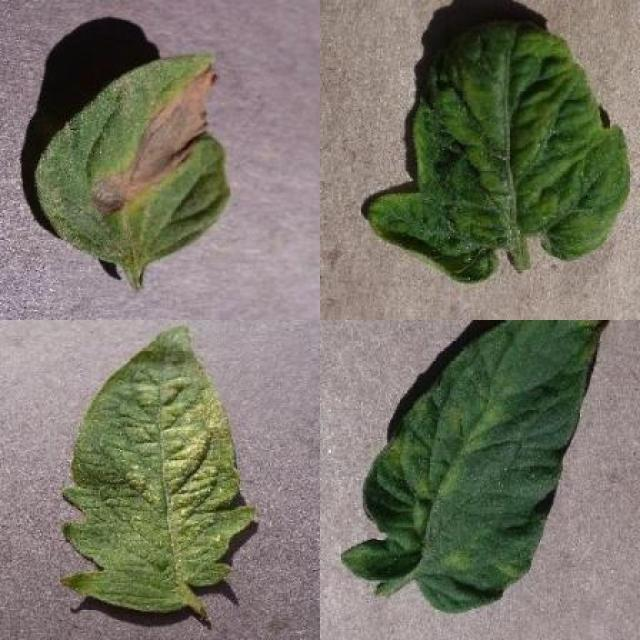Early Blight: (37, 53, 233, 268)
Leaf Mold: (342, 320, 607, 614)
Spider Mites: (59, 324, 257, 616)
Yellow Leaf Curl Virus: (369, 22, 631, 285)
